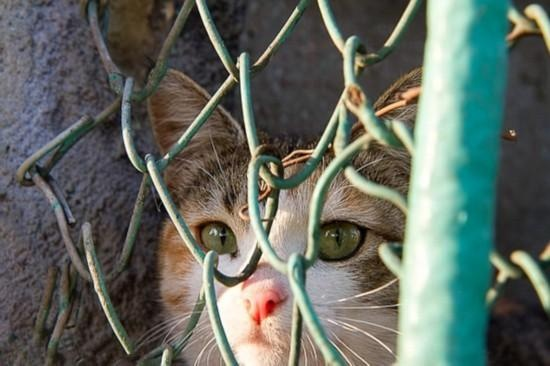cat: (146, 65, 421, 366)
